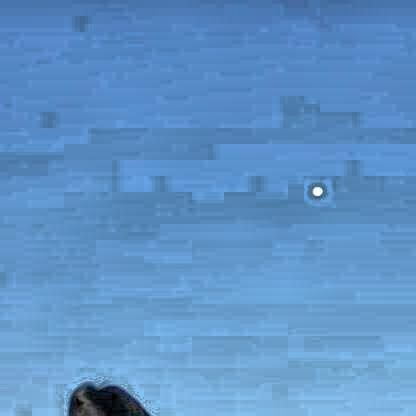golfball: (307, 183, 321, 195)
